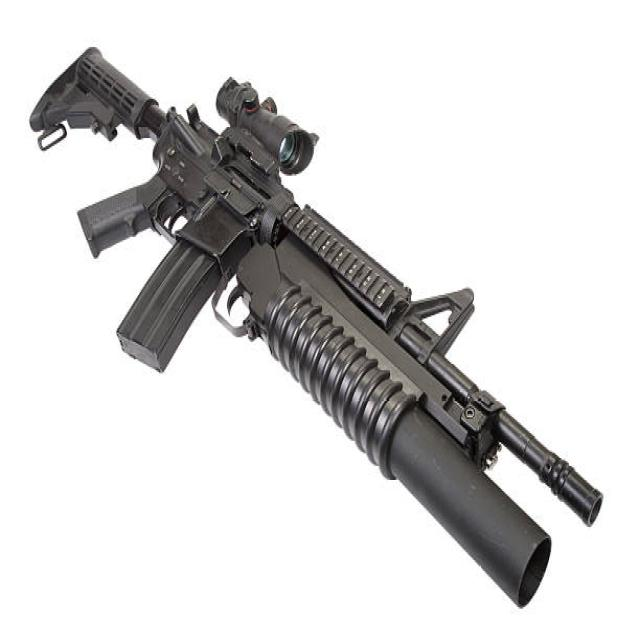rifle: (30, 42, 612, 614)
